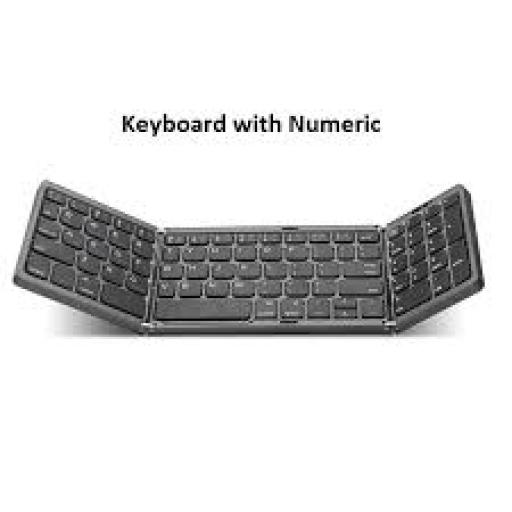keyboard: (16, 182, 482, 332)
